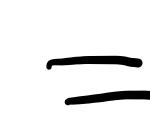eqv: (46, 55, 150, 105)
